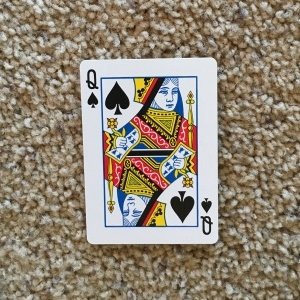card: (78, 55, 222, 245)
